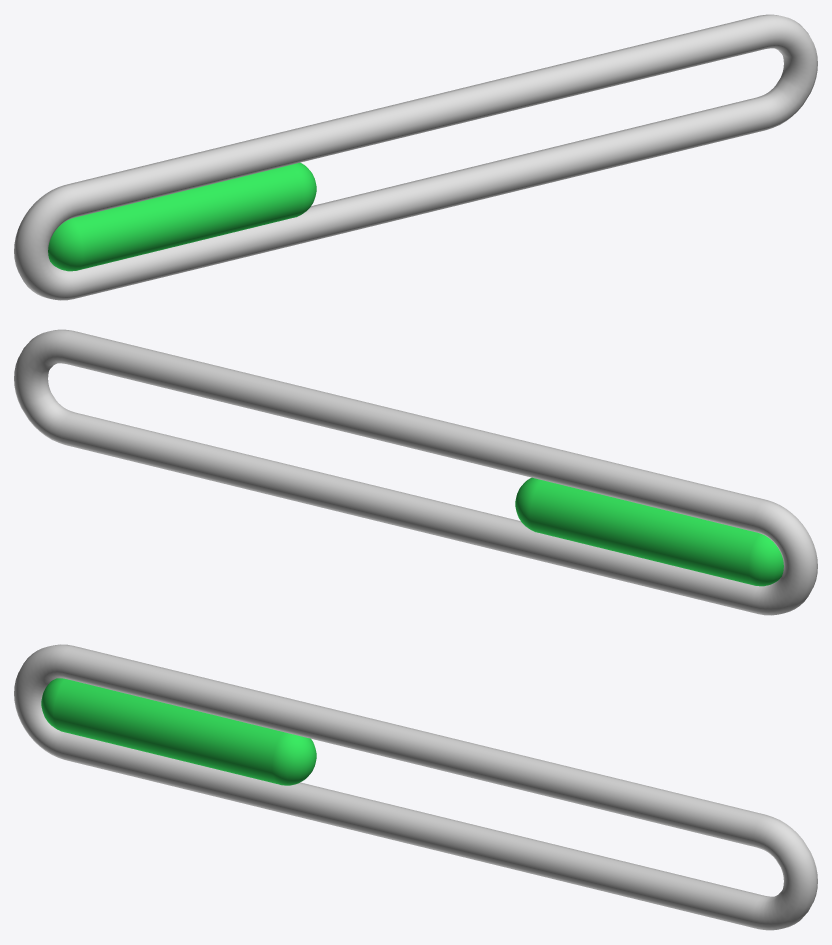
File: sub_goal.glb
3 views of the same model, one above another, from view 1: azimuth 30°, elevation 25°; view 2: azimuth 150°, elevation 25°; view 3: azimuth 330°, elevation 25° (orthographic).
Visible parts, largest first — view 1: sub_goal; view 2: sub_goal; view 3: sub_goal.
Part boxes in pixels (box(x1,y1,x2,y2)): sub_goal: box(14, 14, 817, 300); sub_goal: box(14, 329, 817, 615); sub_goal: box(14, 644, 817, 930).
Size of the model in its own units: 2.25 by 0.3021 by 0.1441.
